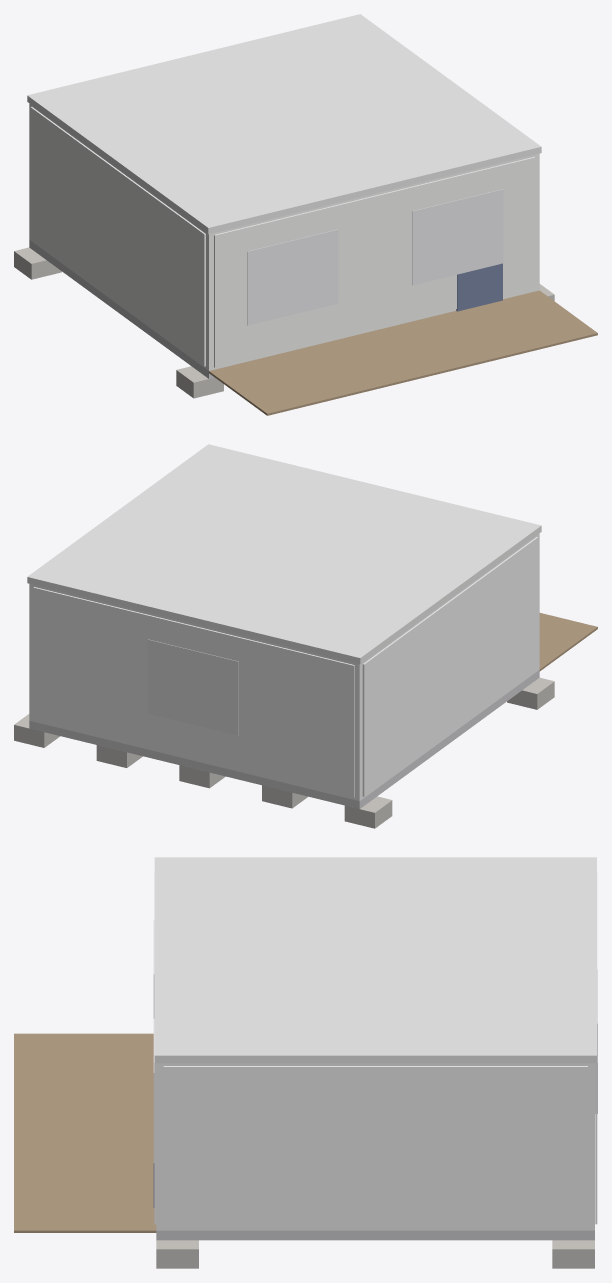
Rendered from Studio-20-Premium+TerraceDeck-LOD0.glb.
The picture shows the model from 3 angles, top to bottom: view 1: azimuth 30°, elevation 25°; view 2: azimuth 150°, elevation 25°; view 3: azimuth 270°, elevation 25°; orthographic projection. The views are drawn at different scales.
Parts seen in each view (by area): view 1: RoofMain, ExteriorPanelsPremium, TerraceDeck, WindowsLargeUpgrade, ExteriorShell, FoundationBlocks, EntryDoor, BaseFrame; view 2: RoofMain, ExteriorPanelsPremium, WindowsLargeUpgrade, FoundationBlocks, ExteriorShell, BaseFrame, TerraceDeck; view 3: RoofMain, ExteriorPanelsPremium, TerraceDeck, ExteriorShell, BaseFrame, FoundationBlocks, WindowsLargeUpgrade.
Part boxes in pixels (left/top/right/bottom): RoofMain: left=27, top=14, right=541, bottom=234; ExteriorPanelsPremium: left=30, top=107, right=535, bottom=367; TerraceDeck: left=209, top=290, right=597, bottom=415; WindowsLargeUpgrade: left=247, top=189, right=503, bottom=325; ExteriorShell: left=29, top=103, right=539, bottom=370; FoundationBlocks: left=14, top=247, right=554, bottom=398; EntryDoor: left=456, top=263, right=502, bottom=311; BaseFrame: left=29, top=240, right=214, bottom=378; RoofMain: left=27, top=444, right=541, bottom=664; ExteriorPanelsPremium: left=33, top=537, right=538, bottom=797; WindowsLargeUpgrade: left=147, top=639, right=238, bottom=735; FoundationBlocks: left=14, top=677, right=554, bottom=828; ExteriorShell: left=29, top=533, right=539, bottom=801; BaseFrame: left=29, top=670, right=539, bottom=808; TerraceDeck: left=539, top=613, right=597, bottom=671; RoofMain: left=154, top=857, right=596, bottom=1063; ExteriorPanelsPremium: left=154, top=872, right=597, bottom=1228; TerraceDeck: left=14, top=1033, right=156, bottom=1232; ExteriorShell: left=156, top=1063, right=594, bottom=1230; BaseFrame: left=156, top=1230, right=594, bottom=1240; FoundationBlocks: left=156, top=1240, right=594, bottom=1268; WindowsLargeUpgrade: left=153, top=920, right=597, bottom=1162.
Bounding box in the file's own units: 7.14 × 3.17 × 8.2.
